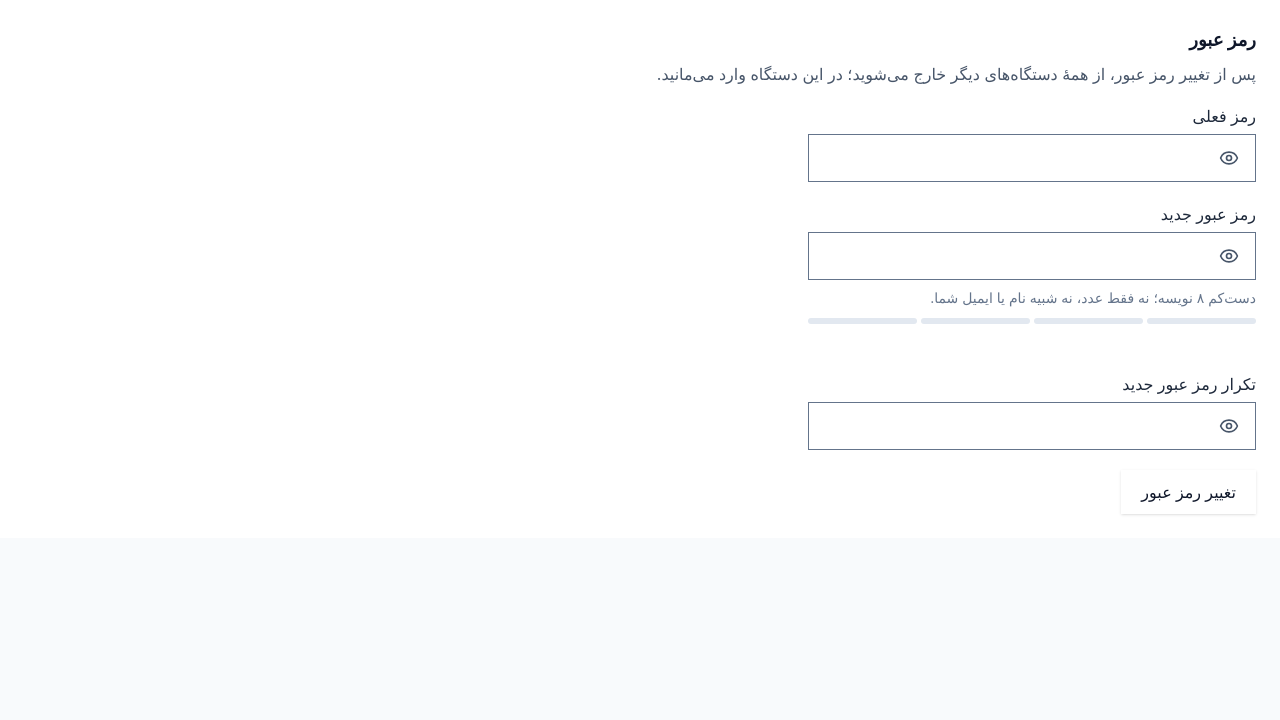
Test case: PasswordSection › a 429 holds the button for retry_after
The width and height of the screenshot is (1280, 720).
Later steps or results of the test are not shown.
In the password field labelled "رمز فعلی": (1008,158) x1=809 y1=135 x2=1207 y2=181, type "Firefly@1234"
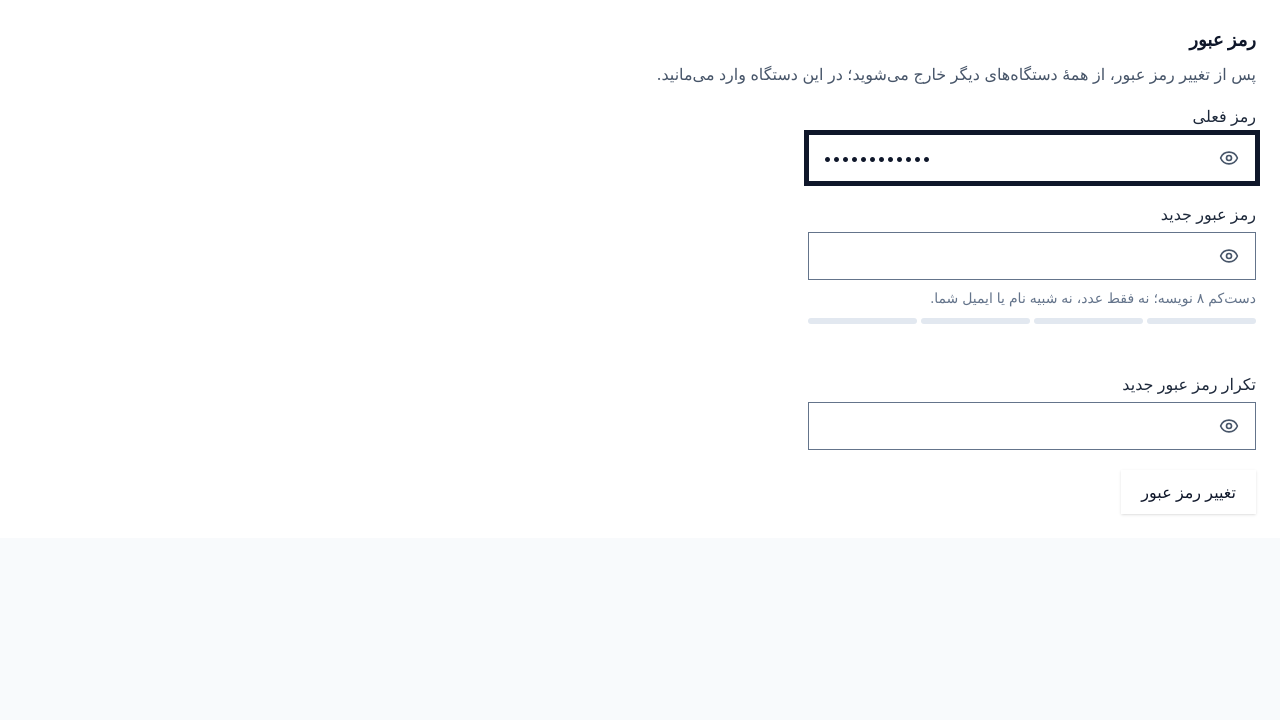
In the password field labelled "رمز عبور جدید": (1008,256) x1=809 y1=233 x2=1207 y2=279, type "Kooh-Damavand-1404"
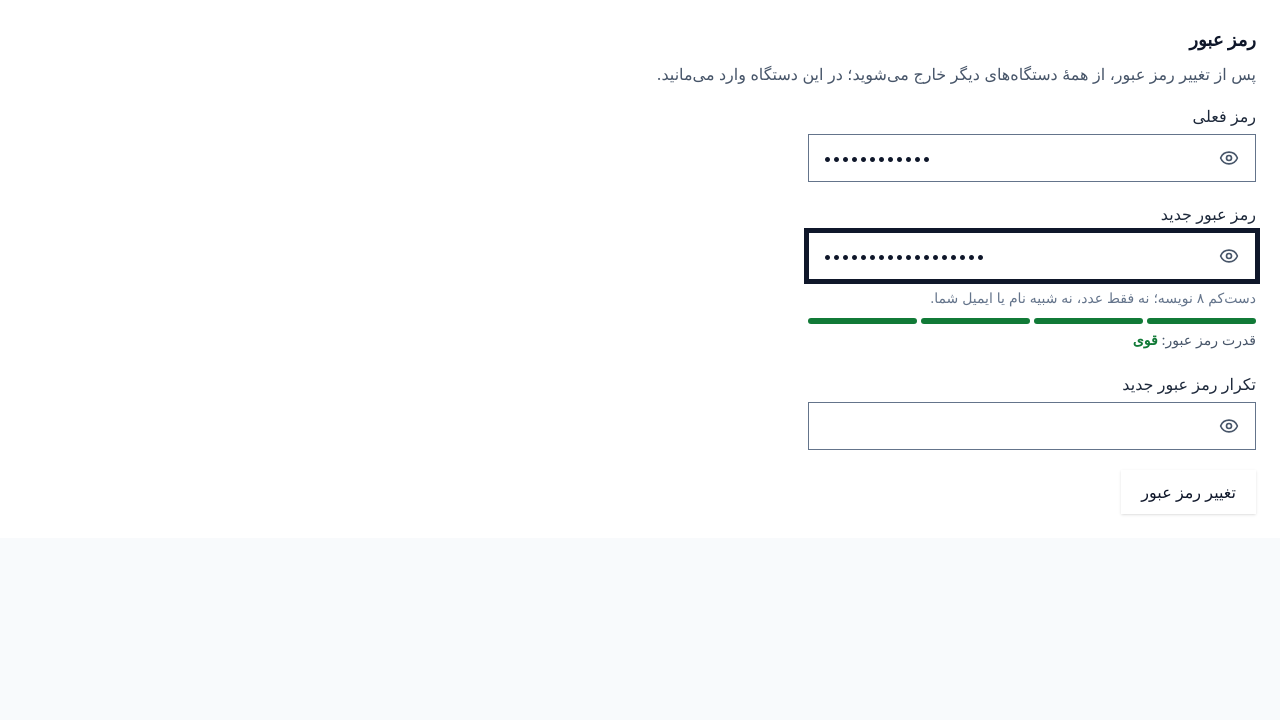
In the password field labelled "تکرار رمز عبور جدید": (1008,426) x1=809 y1=403 x2=1207 y2=449, type "Kooh-Damavand-1404"
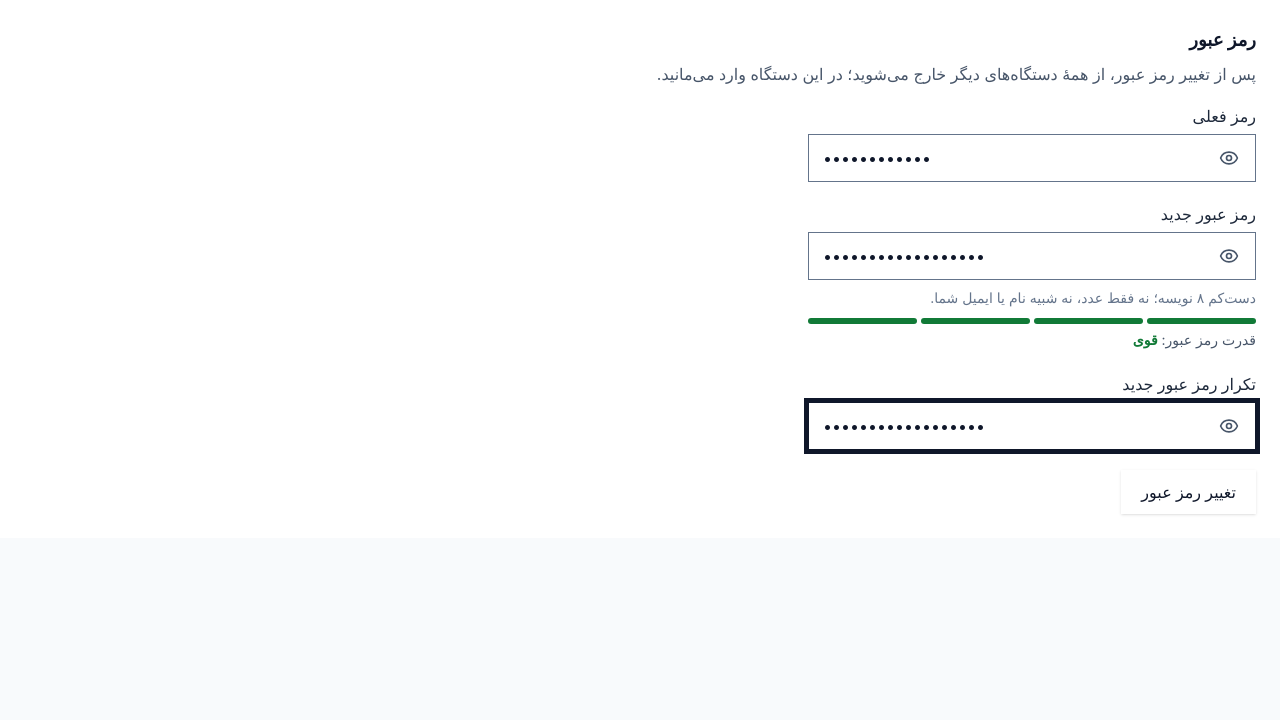
Click the button "تغییر رمز عبور": (1189,492) x1=1121 y1=470 x2=1256 y2=514
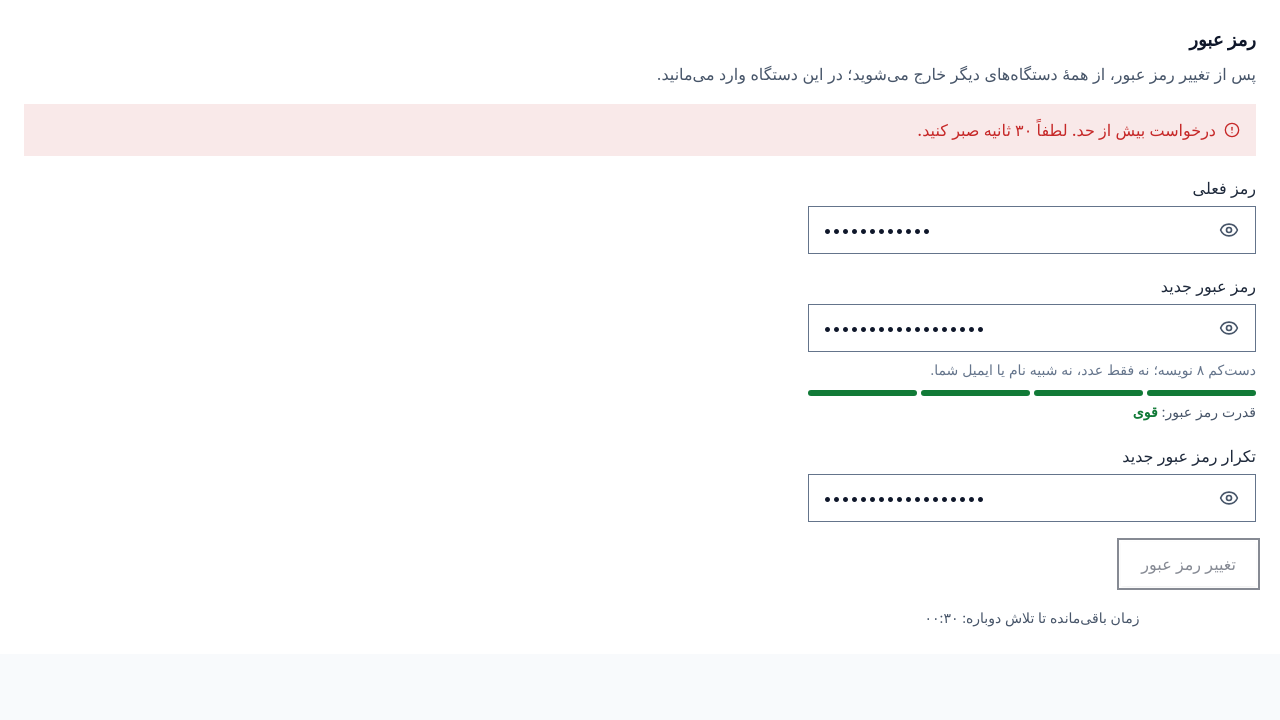
Now the message "درخواست بیش از حد. لطفاً ۳۰ ثانیه صبر کنید." is shown, box x1=24 y1=104 x2=1256 y2=156
Click the button "تغییر رمز عبور": (1189,564) x1=1121 y1=542 x2=1256 y2=586
Wait 31000 ms
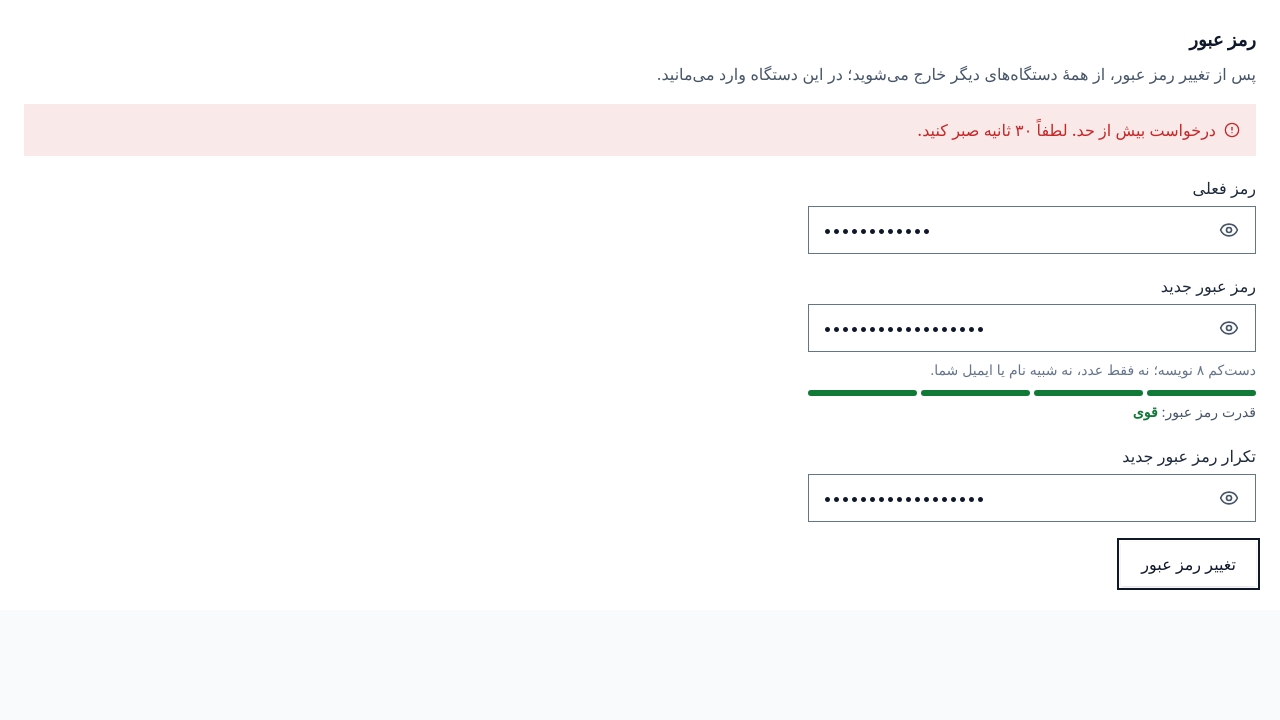
Now the button "تغییر رمز عبور" does not have attribute aria-disabled, box x1=1121 y1=542 x2=1256 y2=586
